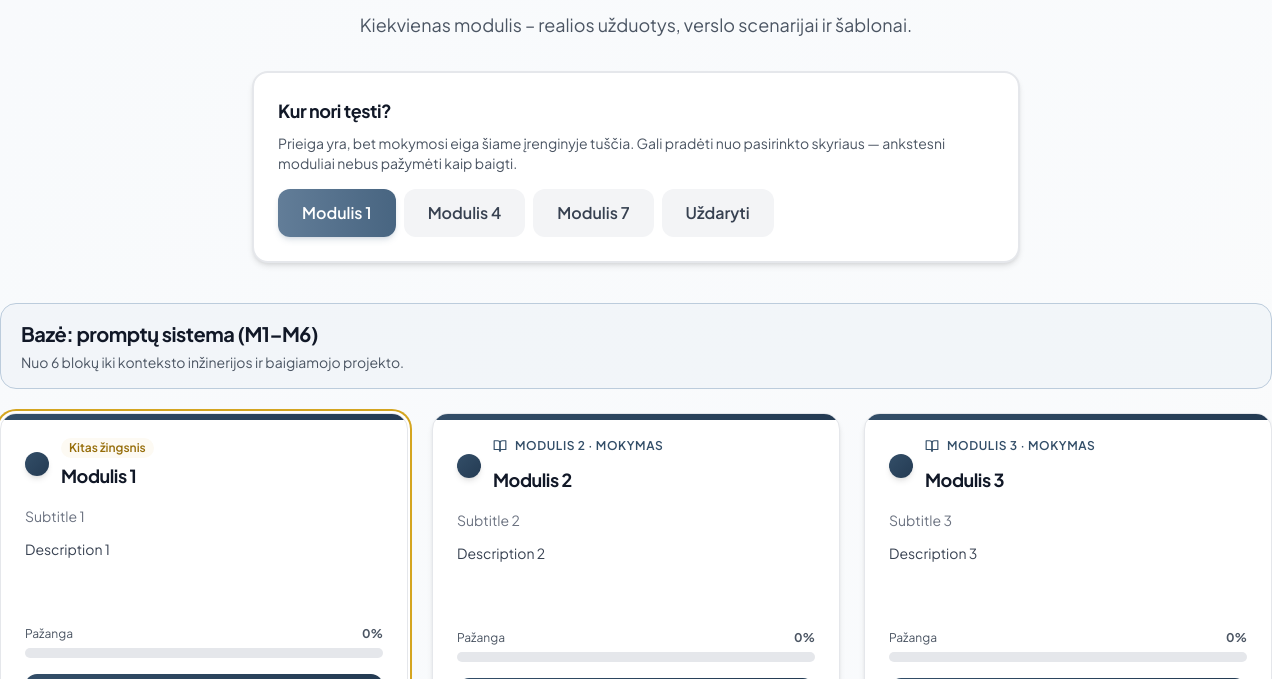
ModulesPage chapter starts / recovery › dismisses recovery card but keeps chapter strip
The image size is (1280, 679).
What coordinates should you click on to do the following:
click the button "Uždaryti"
I would click on:
 (718, 213)
Its box is [662, 189, 774, 237].
(page scrolled)
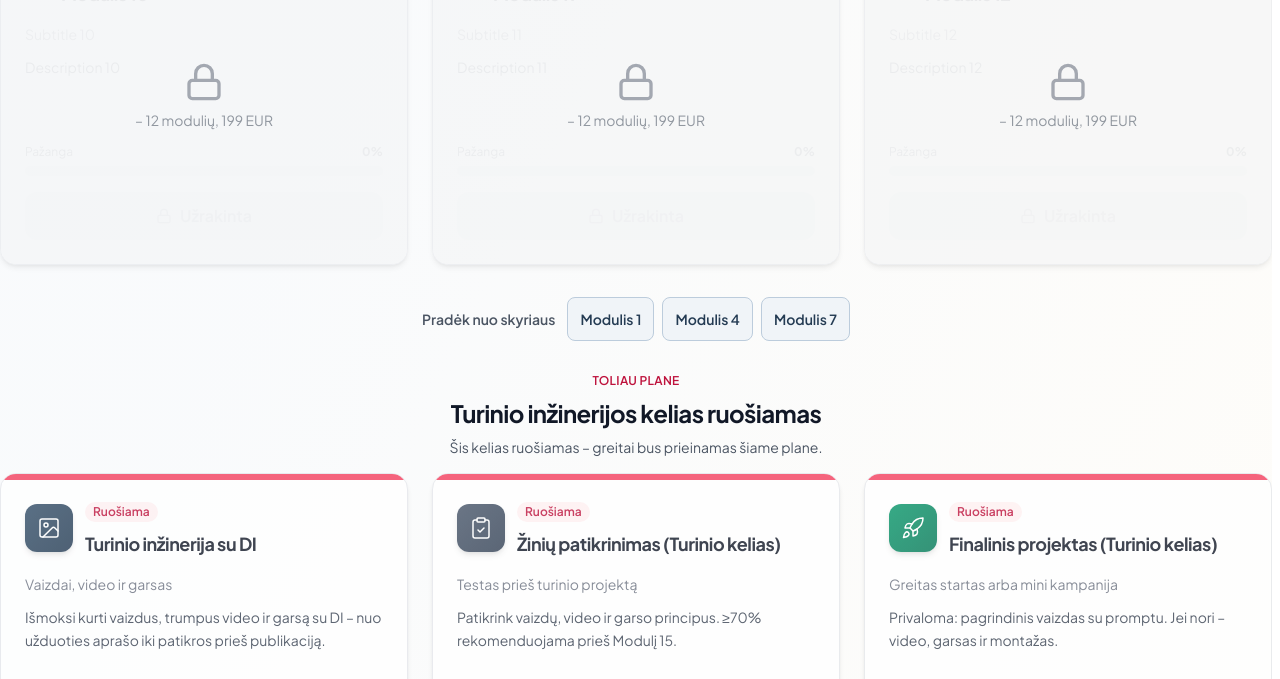
Expected: the text "Pradėk nuo skyriaus" is shown, [422, 309, 556, 329]
Result: the heading "Kur nori tęsti?" is gone
